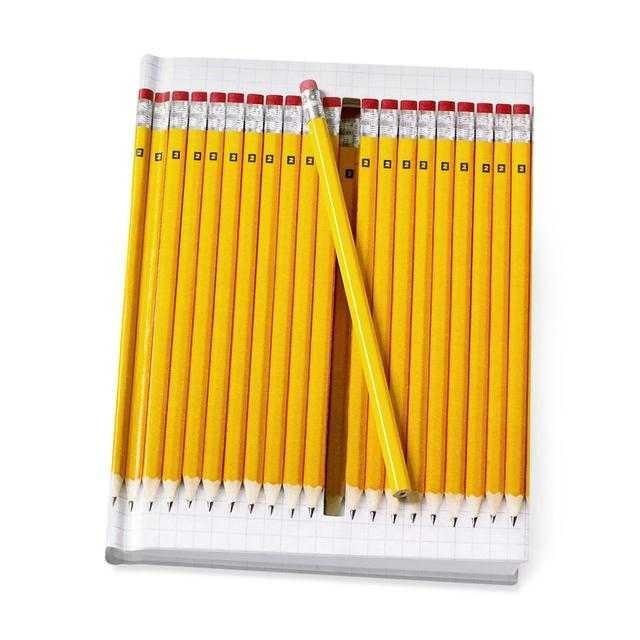pencil: (290, 67, 436, 522)
